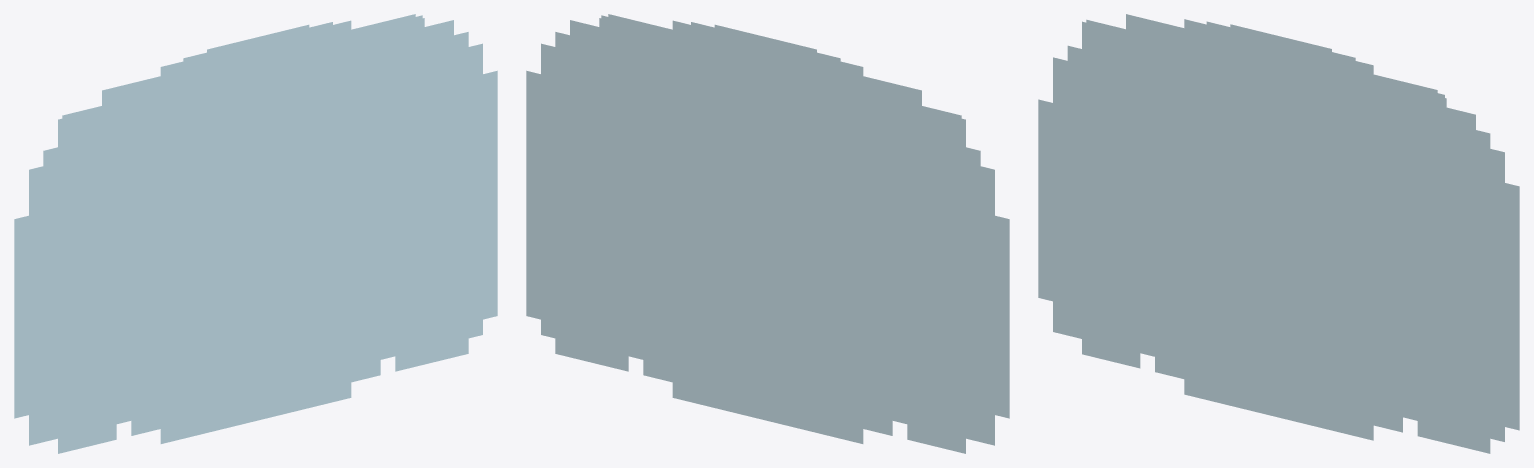
The model's file is wp_water_112.obj.
The picture shows the model from 3 angles, left to right: view 1: azimuth 30°, elevation 25°; view 2: azimuth 150°, elevation 25°; view 3: azimuth 330°, elevation 25°; orthographic projection.
Bounding box in the file's own units: 0.4682 × 0.3548 × 0.
1 material, 1 textured.
